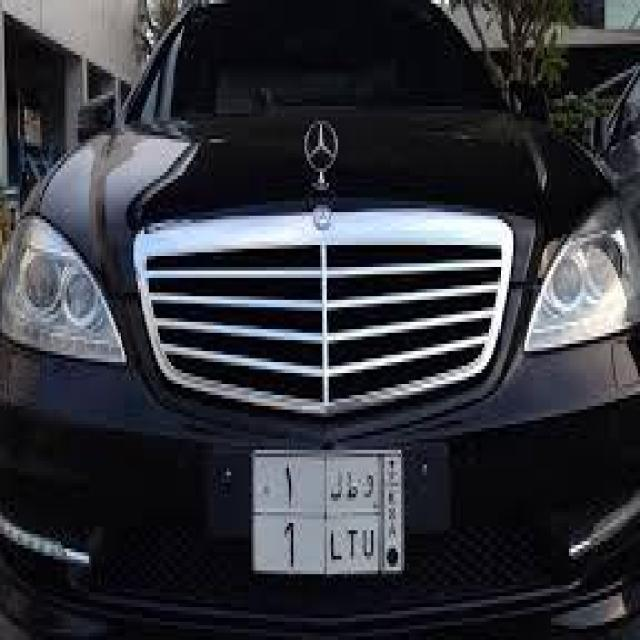license_plate: (229, 424, 400, 592)
